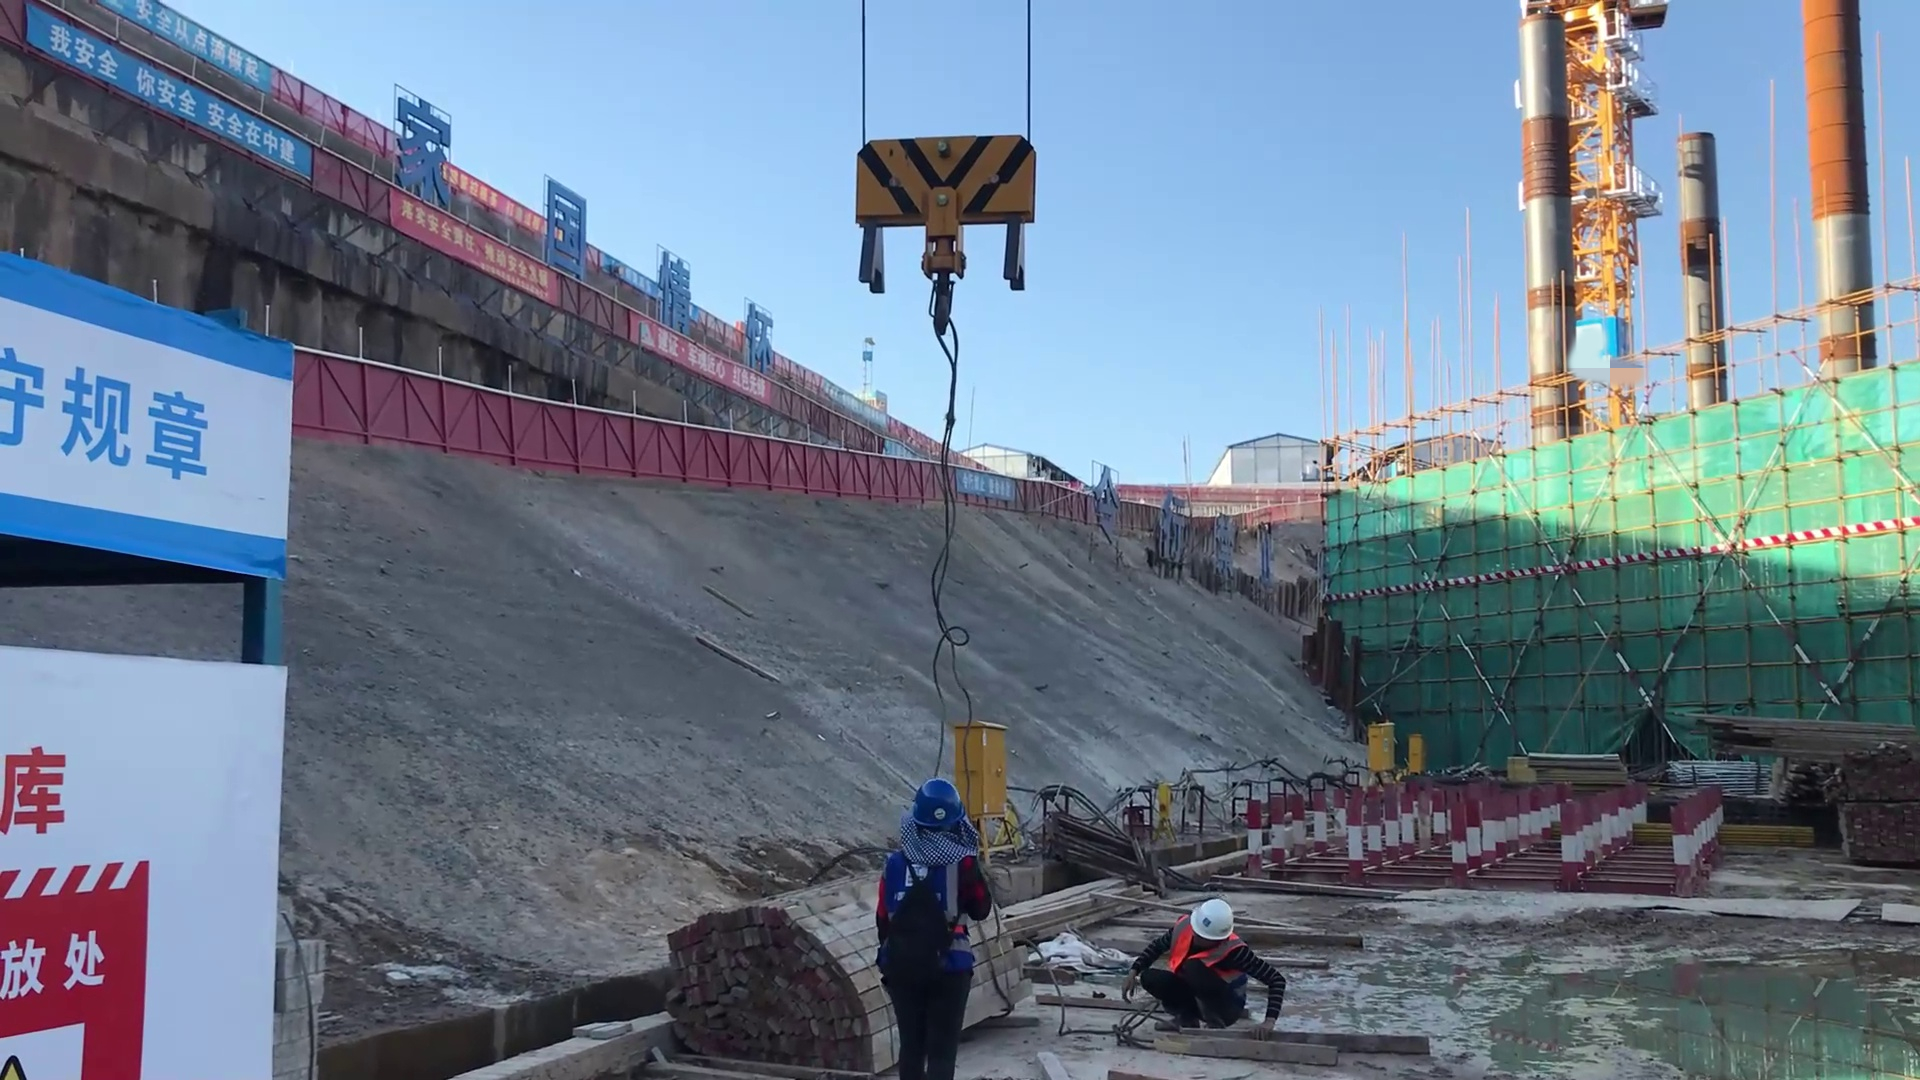board: (654, 855, 873, 1079)
ebox: (948, 712, 1010, 835), (1363, 715, 1400, 770), (1406, 729, 1426, 775)
fence: (288, 352, 660, 489), (663, 429, 877, 507), (875, 452, 1092, 523)
helmet: (901, 781, 966, 830), (1181, 896, 1229, 938)
hook: (828, 98, 1088, 301)
person: (864, 771, 994, 1080), (1112, 890, 1288, 1039)
slogan: (1, 306, 284, 542), (17, 23, 317, 198), (367, 172, 589, 372)
vest: (1154, 931, 1237, 995)
wood: (1695, 709, 1907, 781)
